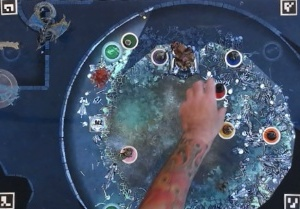blue: (222, 48, 243, 68)
green: (121, 30, 140, 50)
orange: (262, 121, 283, 145)
pink: (120, 143, 142, 164)
red: (212, 80, 232, 102)
violet: (150, 44, 171, 67)
yellow: (217, 120, 238, 141)
